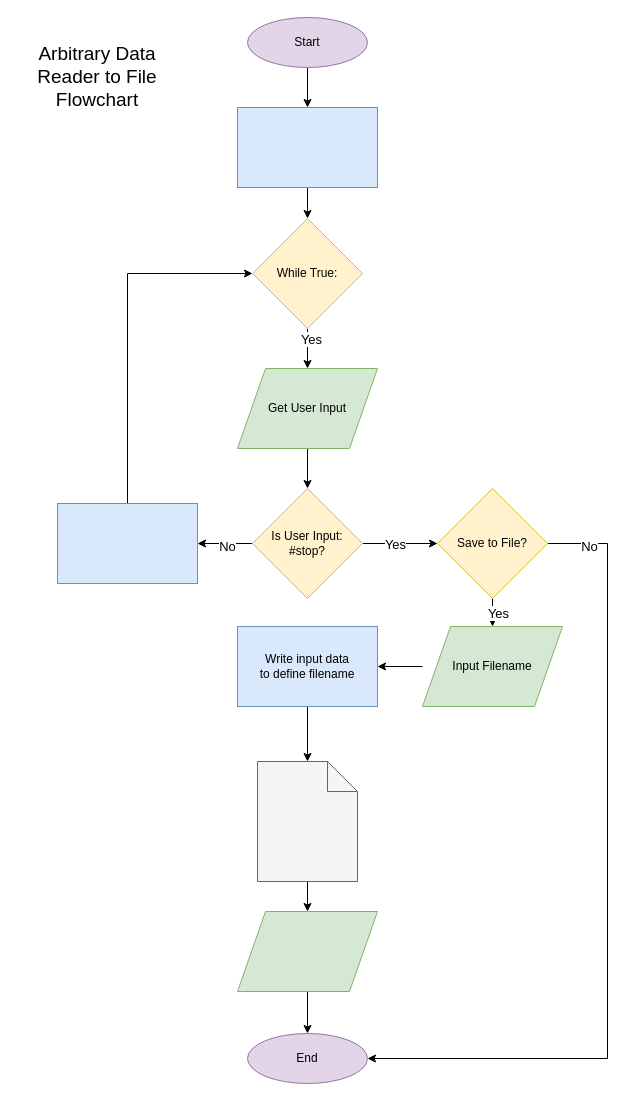
This 633x1101 diagram has some shape labels left out. The shapes that lost their labels are listed below. From the top down, each one's centre as x and y in pixels, then its label:
At (x=307, y=147): "Prepare define functions and variables".
At (x=127, y=543): "Store / append to variable".
At (x=307, y=821): "defined filename".
At (x=307, y=951): "Display where the location of file stored".
